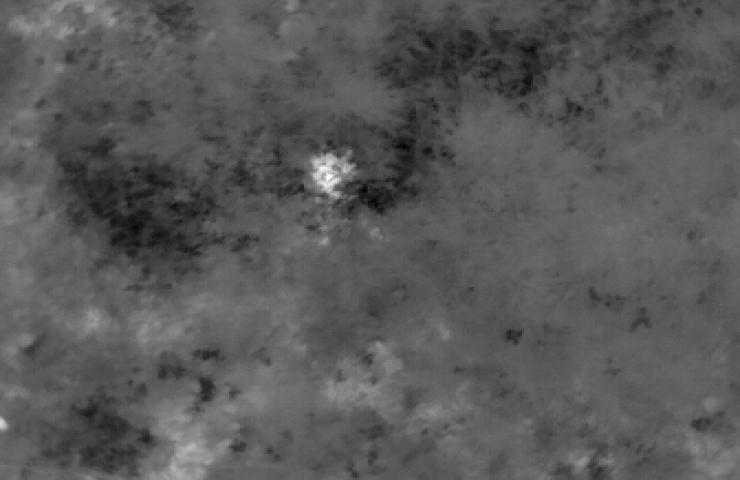landmines: (307, 150, 359, 195)
